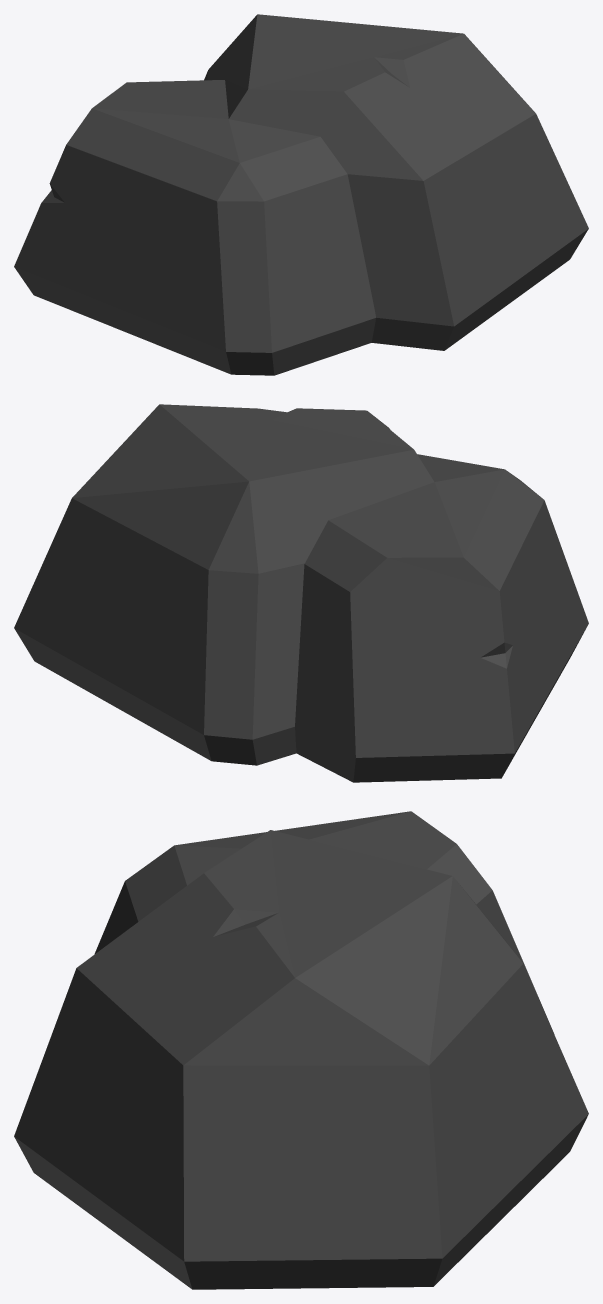
The model's file is rock__rock10_natural_dark.glb.
3 views of the same model, one above another, from view 1: azimuth 30°, elevation 25°; view 2: azimuth 150°, elevation 25°; view 3: azimuth 270°, elevation 25° (orthographic). The views are drawn at different scales.
Parts seen in each view (by area): view 1: rock10.natural.dark; view 2: rock10.natural.dark; view 3: rock10.natural.dark.
Boxes of the visible parts, x1=… form: rock10.natural.dark: x1=14, y1=14, x2=588, y2=375; rock10.natural.dark: x1=14, y1=404, x2=588, y2=782; rock10.natural.dark: x1=14, y1=811, x2=588, y2=1289.
Bounding box in the file's own units: 2.77 × 1.25 × 2.3.
Materials: 1 (1 with a texture image).
